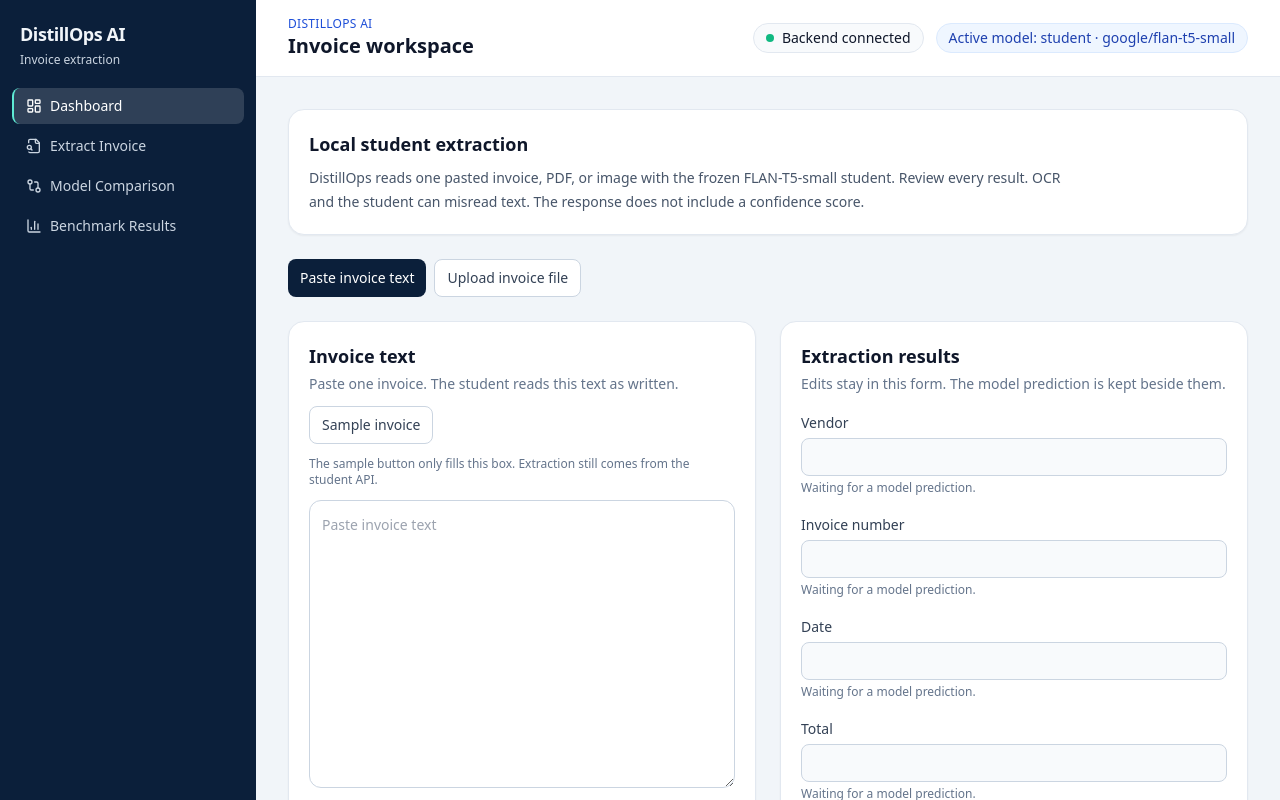
Test case: saved benchmark screens › shows the frozen test comparison without calling extract
Click the button "Model Comparison" at (128, 186), box [12,168,244,204]
(page scrolled)
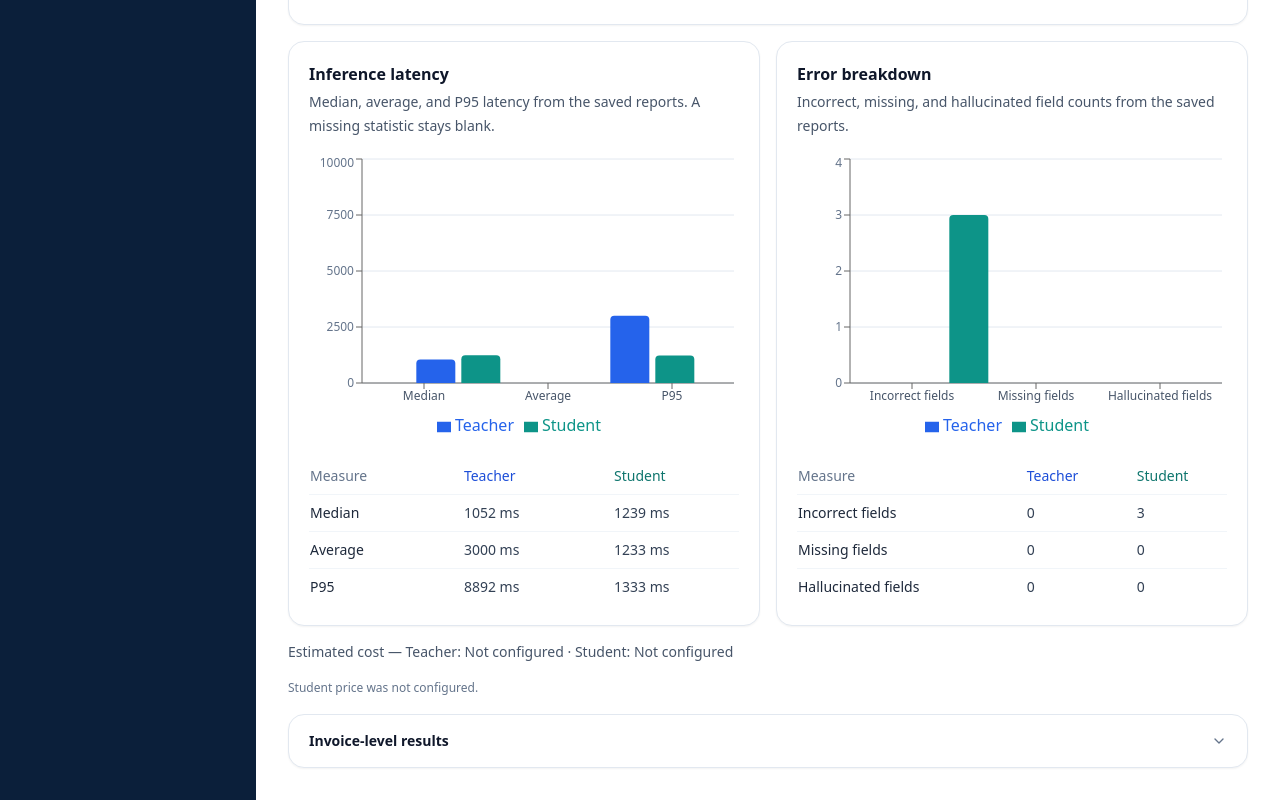
expect the table with test id "chart-latency-data" shows "1052 ms": met, box [464,503,519,522]
expect the table with test id "chart-latency-data" shows "8892 ms": met, box [464,577,519,596]
expect the table with test id "chart-errors-data" shows "Incorrect fields": met, box [798,503,896,522]
Click the heading "Invoice-level results" at (379, 740), box [309,731,1227,750]
(page scrolled)
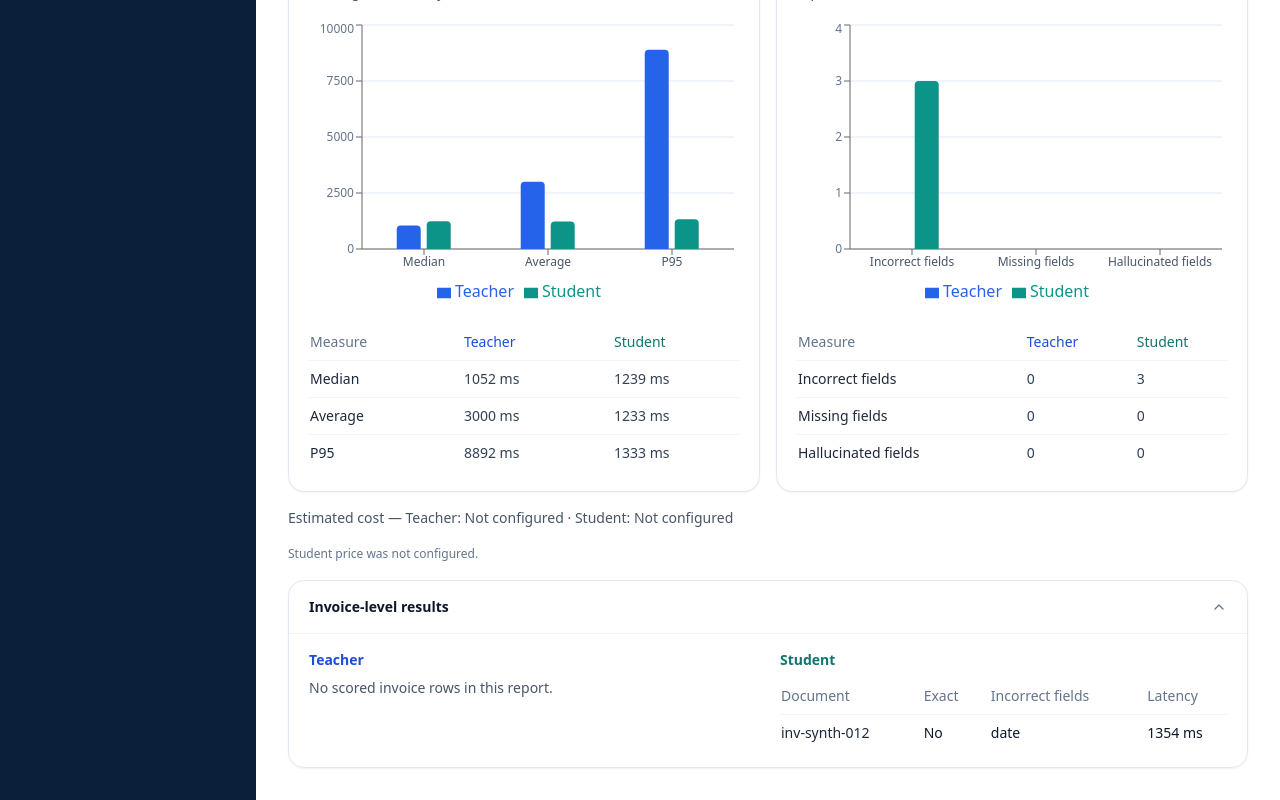
expect the text "inv-synth-012" is shown: met, box [780,714,923,751]
